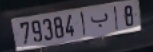3: (43, 18, 54, 40)
4: (65, 14, 75, 37)
7: (18, 21, 30, 46)
8: (54, 15, 63, 38), (125, 4, 134, 27)
9: (31, 20, 43, 42)
b: (89, 13, 109, 28)
